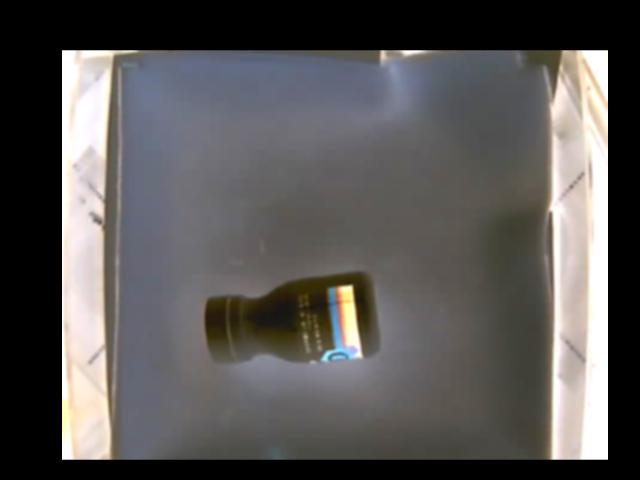Bottle: (200, 271, 382, 365)
